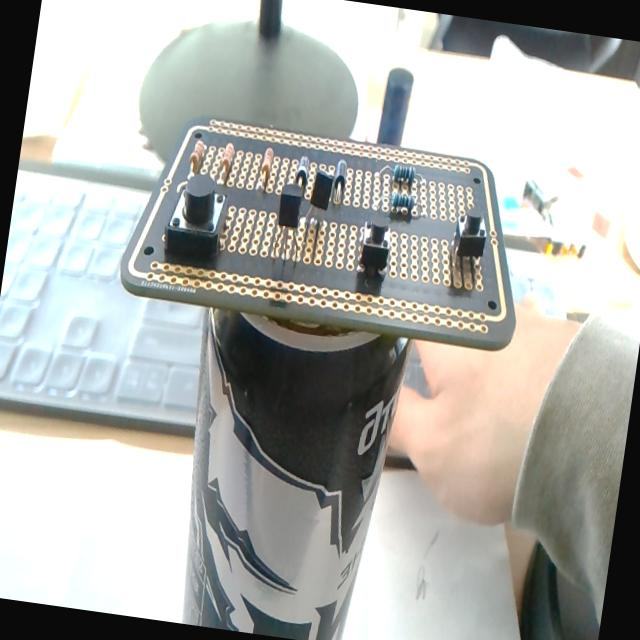diode: (330, 160, 349, 207), (294, 155, 311, 191)
resistor: (216, 140, 238, 193), (389, 190, 416, 216), (188, 139, 206, 175), (259, 147, 275, 186), (392, 163, 417, 186)
switch: (162, 170, 231, 262), (448, 208, 490, 279), (356, 220, 394, 278)
transistor: (302, 158, 339, 252), (272, 181, 305, 263)
